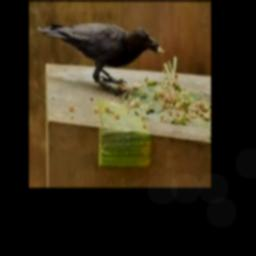Crow: (36, 23, 161, 88)
